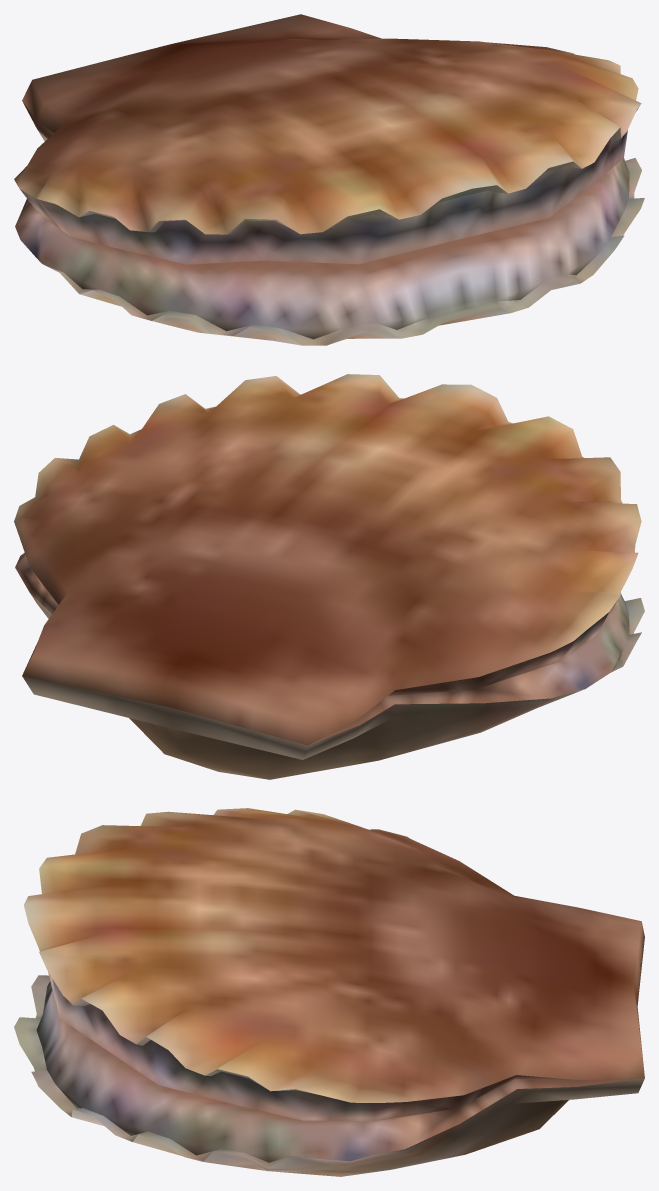
Rendered from scallop.glb.
3 renders of one model, top to bottom at view 1: azimuth 30°, elevation 25°; view 2: azimuth 150°, elevation 25°; view 3: azimuth 270°, elevation 25°, orthographic.
Size of the model in its own units: 3.24 by 1.24 by 3.07.
1 material, 1 textured.
